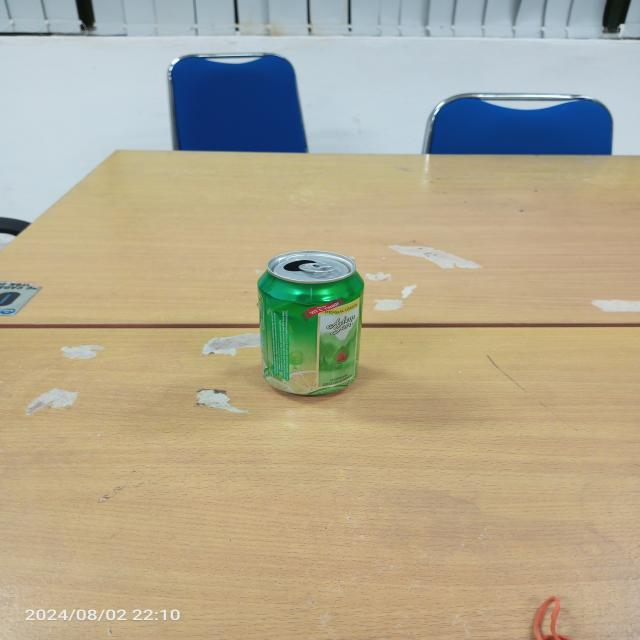ademsarikaleng: (255, 249, 365, 396)
